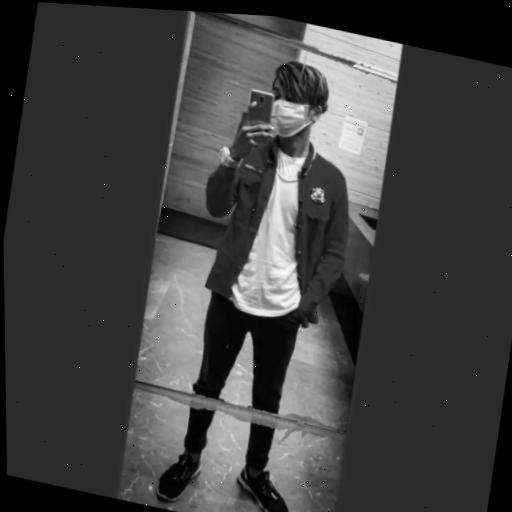mask: (263, 82, 310, 142)
